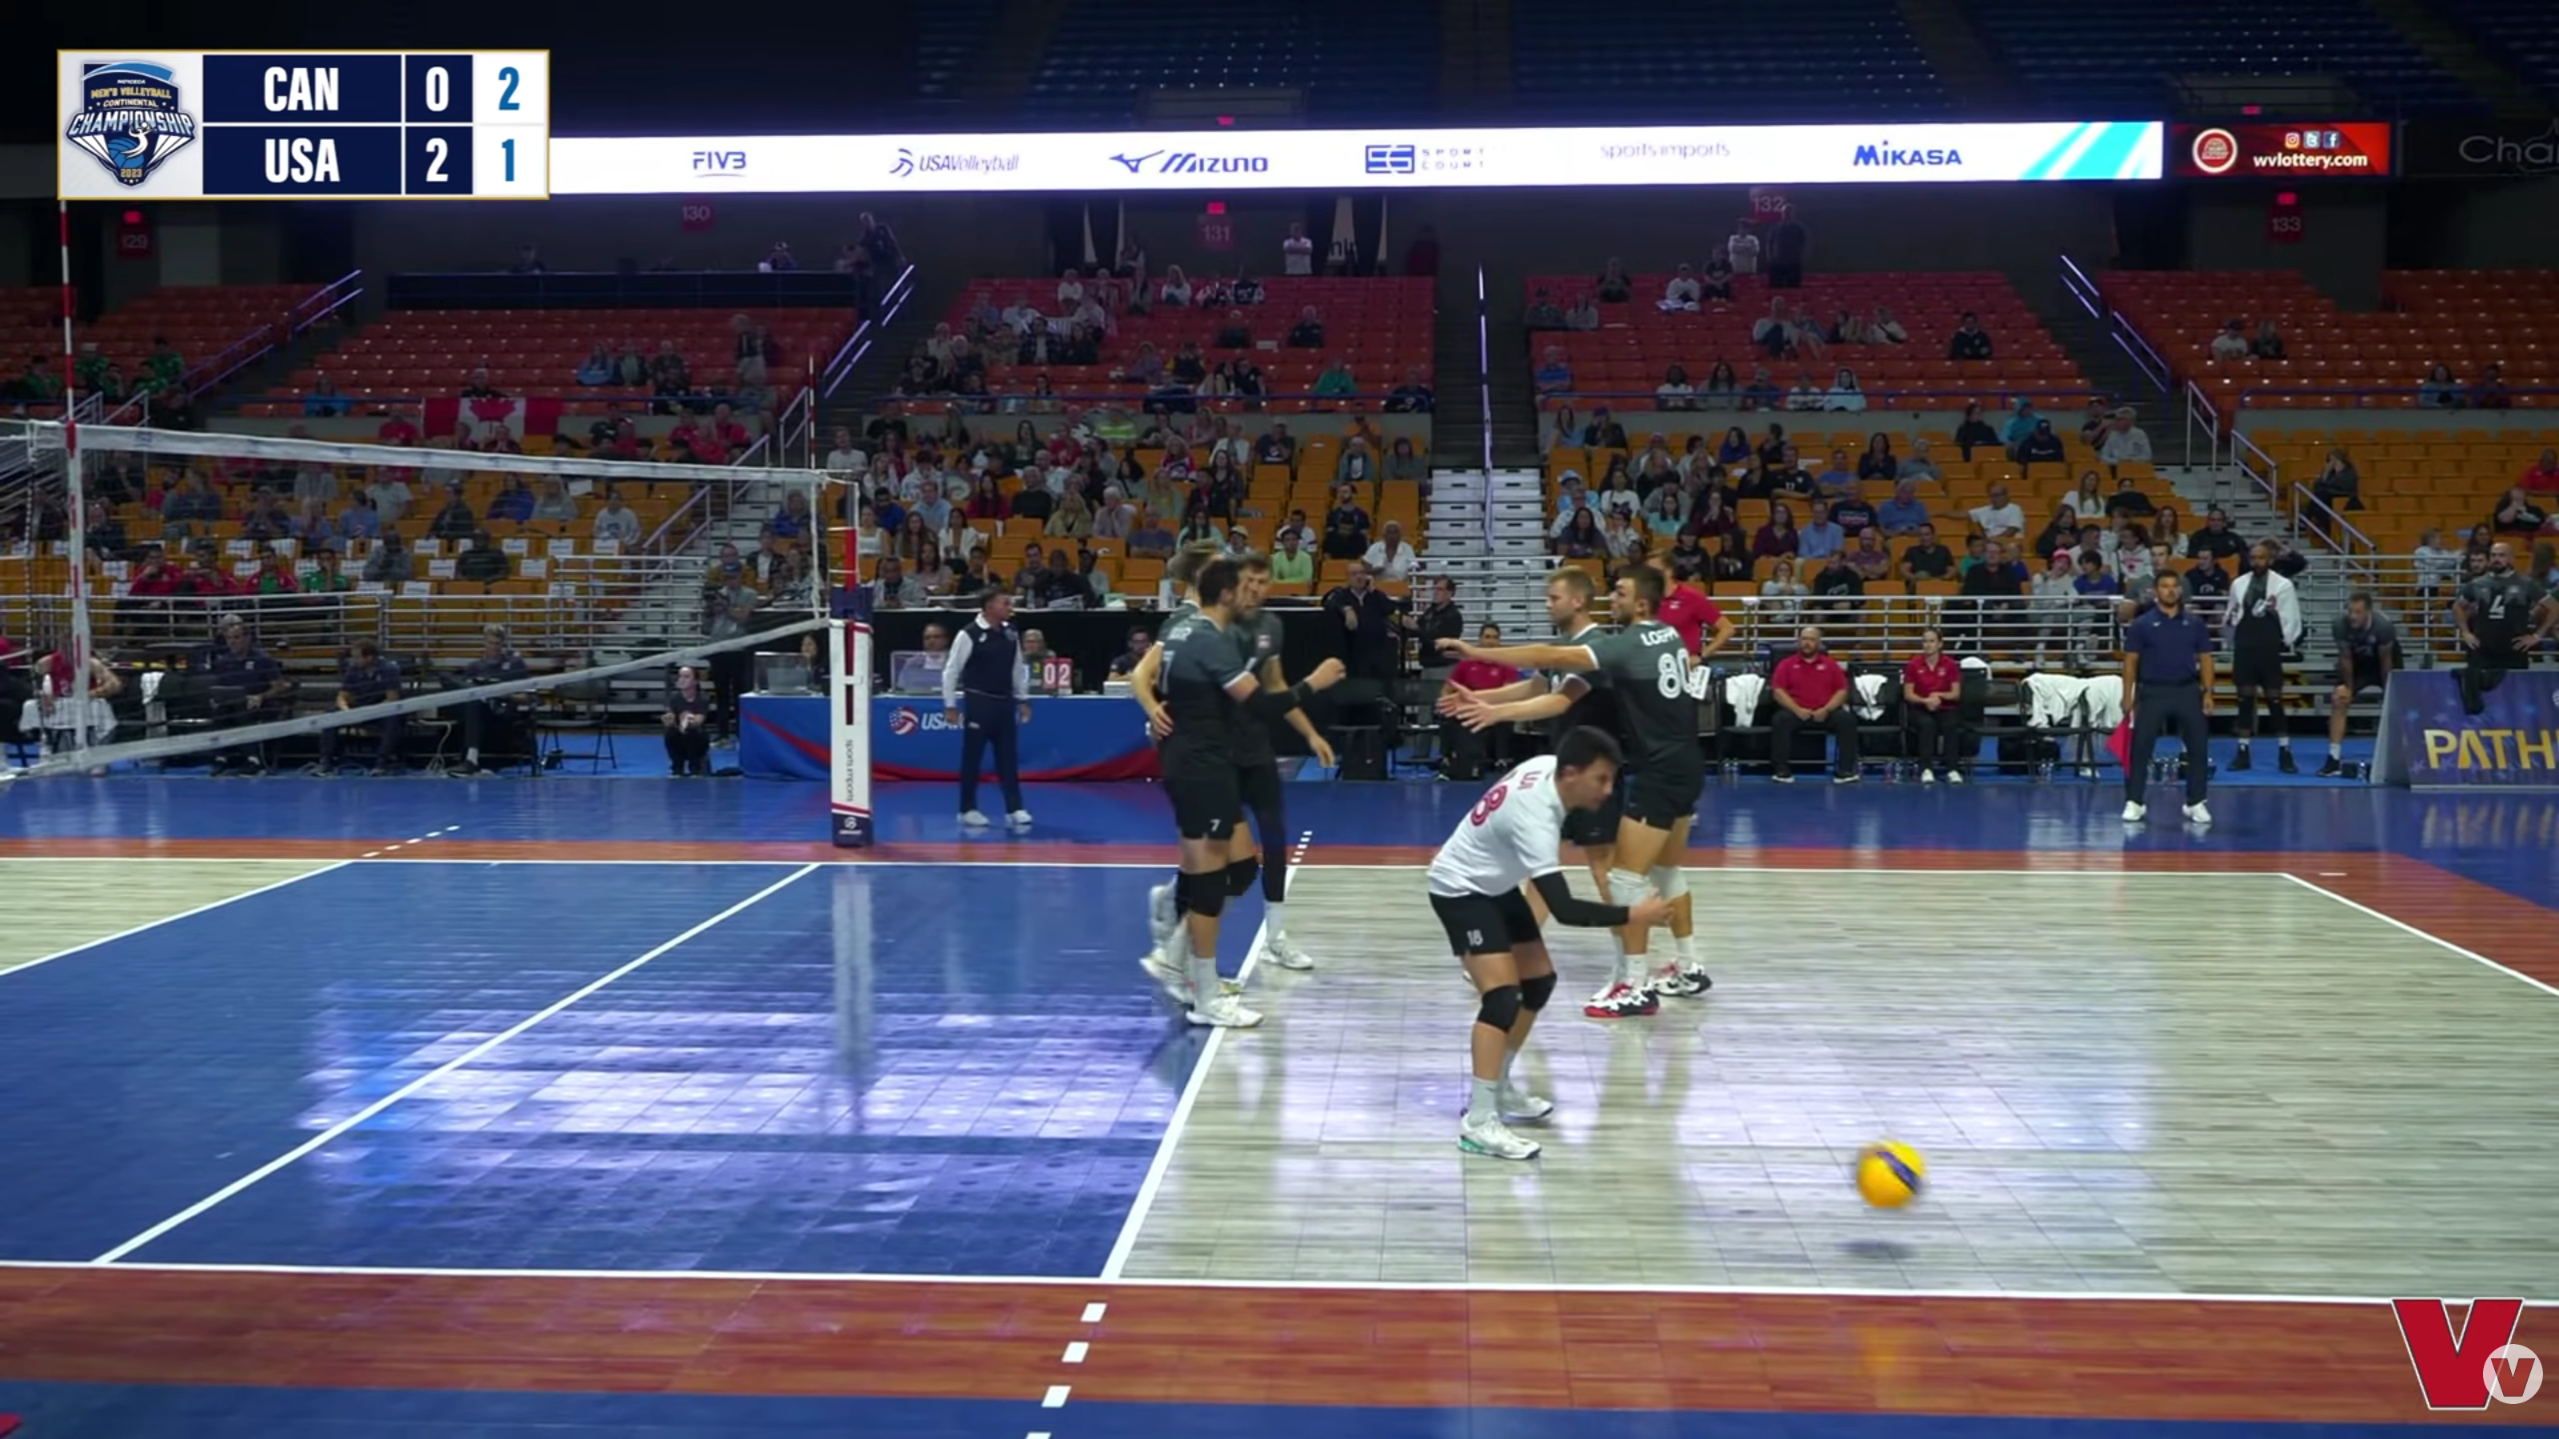Ball: (1852, 1135, 1926, 1212)
